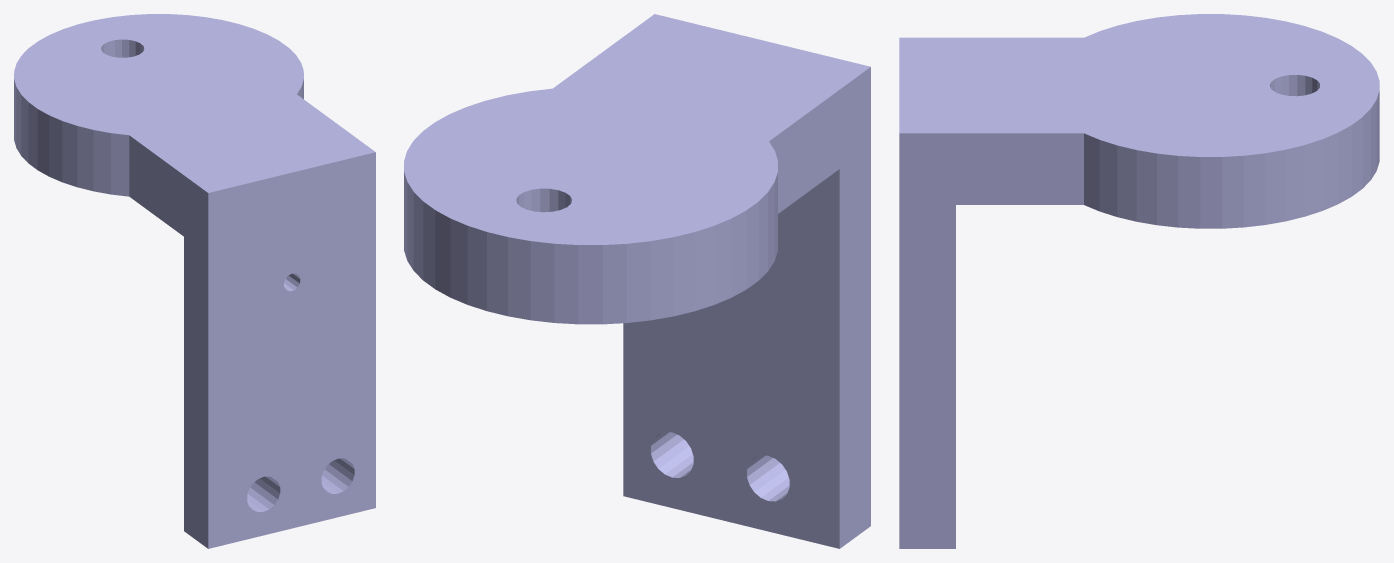
3 views of the same model, side by side, from view 1: azimuth 30°, elevation 25°; view 2: azimuth 150°, elevation 25°; view 3: azimuth 270°, elevation 25° (orthographic). The views are drawn at different scales.
Visible parts, largest first — view 1: Sólido1; view 2: Sólido1; view 3: Sólido1.
Part boxes in pixels (box(x1,y1,x2,y2)): Sólido1: box(14, 14, 375, 548); Sólido1: box(404, 14, 870, 548); Sólido1: box(899, 14, 1379, 548).
Bounding box in the file's own units: 29.95 × 40.57 × 42.47.
